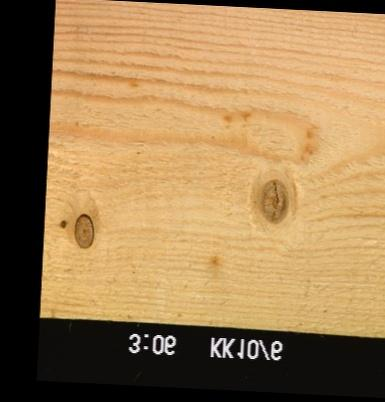dry_knot: (72, 212, 94, 249), (58, 219, 66, 229)
sound_knot: (255, 177, 289, 226)
